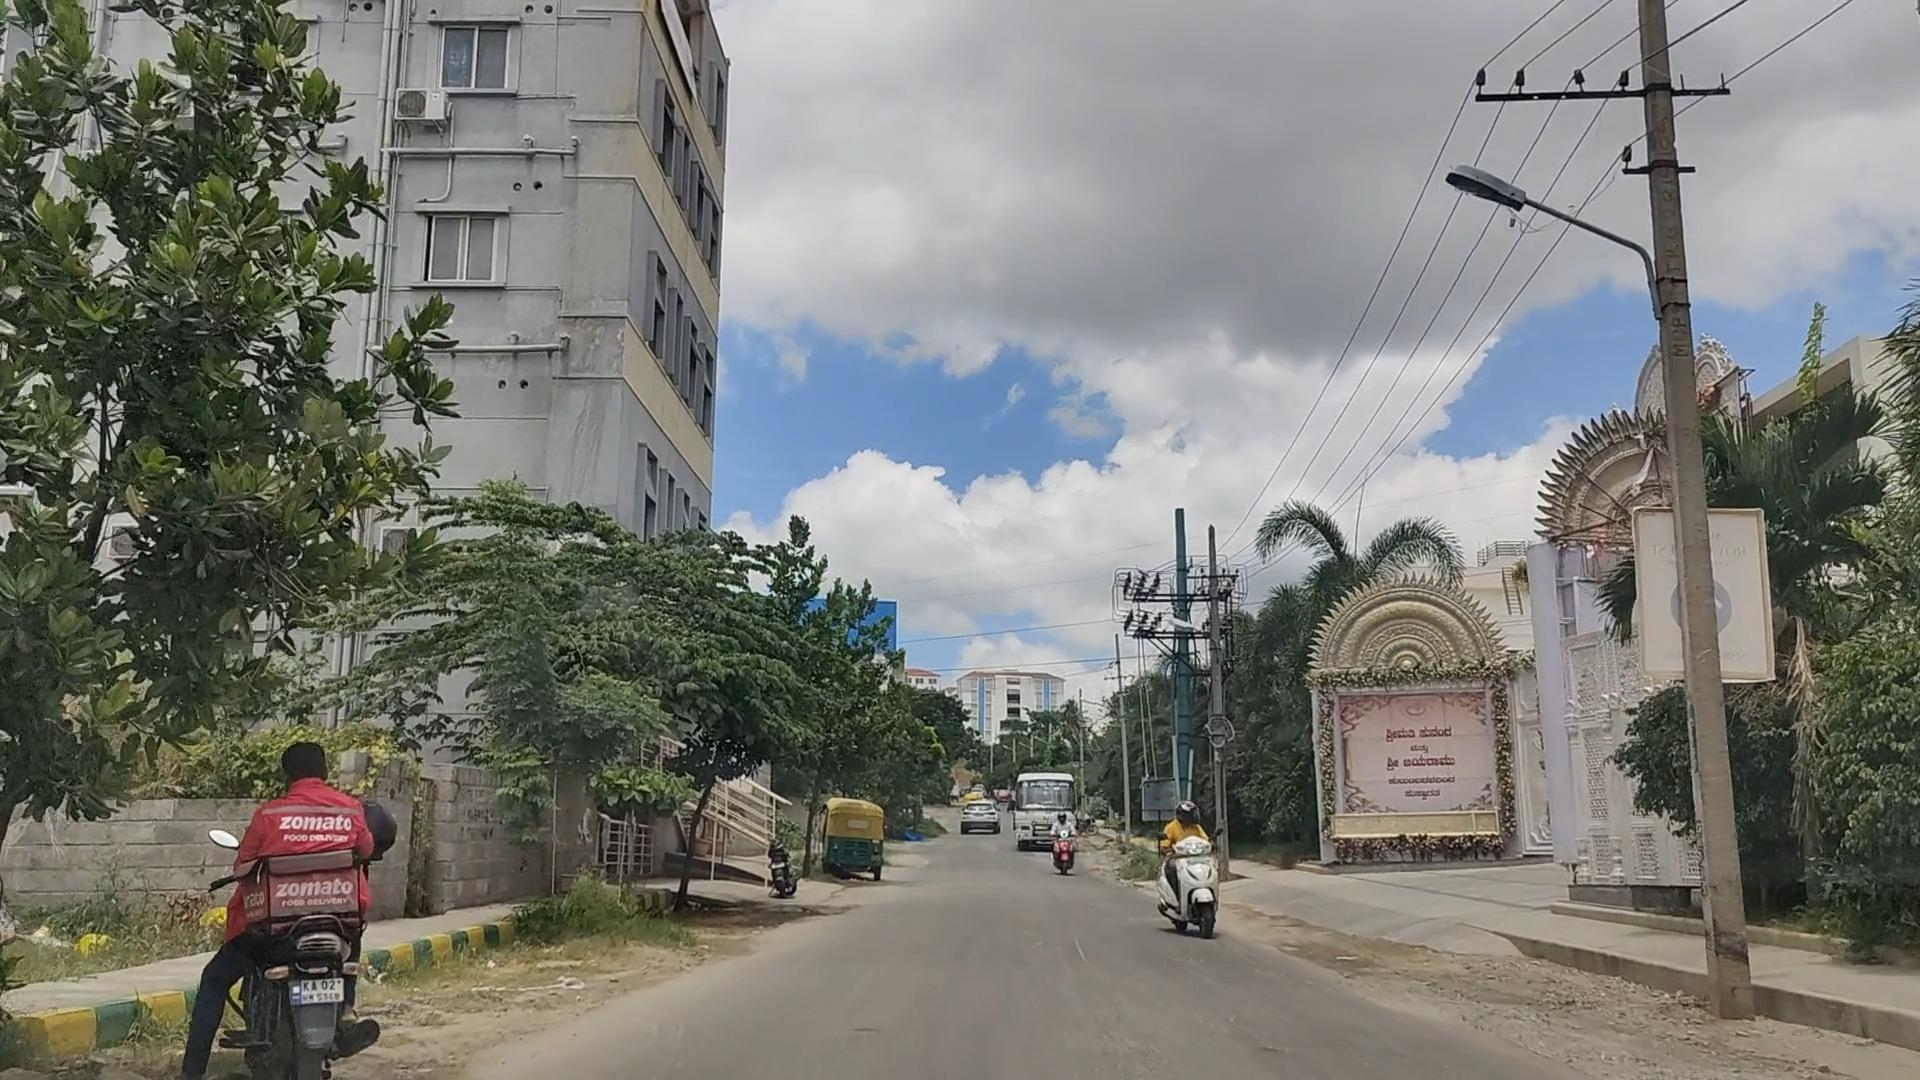LMV: (179, 719, 378, 1080)
RoadDamages: (1366, 985, 1705, 1080)
